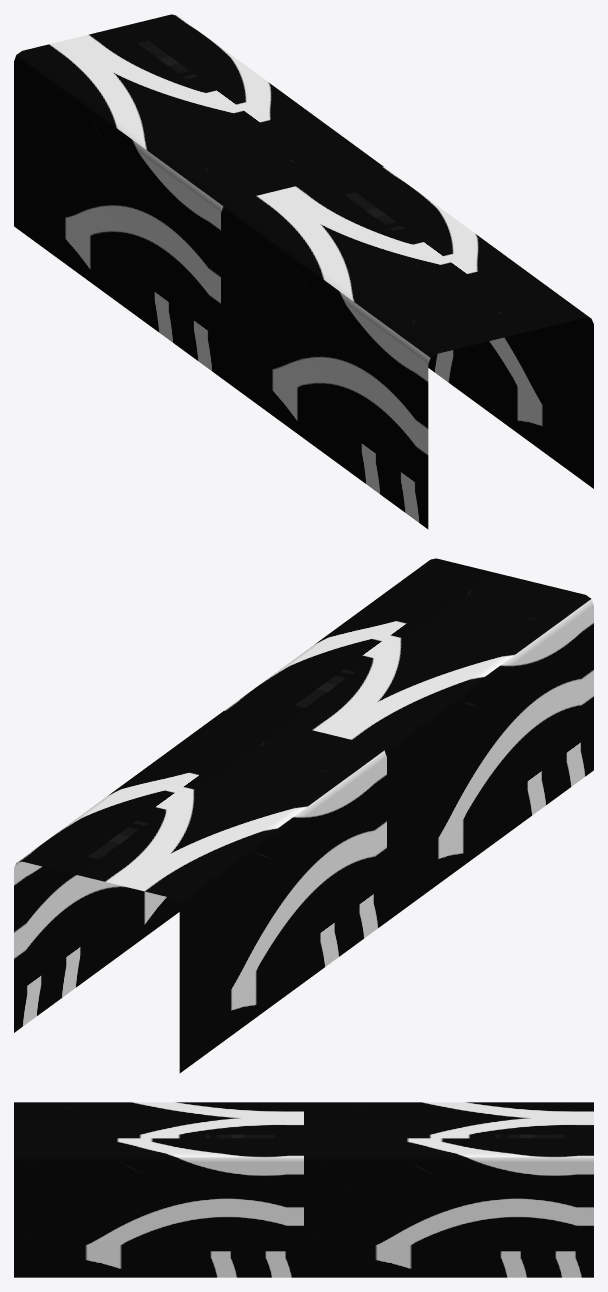
Rendered from RampPiece.fbx.
The picture shows the model from 3 angles, top to bottom: view 1: azimuth 30°, elevation 25°; view 2: azimuth 150°, elevation 25°; view 3: azimuth 270°, elevation 25°; orthographic projection. The views are drawn at different scales.
Parts seen in each view (by area): view 1: RampPiece; view 2: RampPiece; view 3: RampPiece.
Part boxes in pixels (x1,y1,x2,y2): RampPiece: (14,14,593,529); RampPiece: (14,558,593,1073); RampPiece: (14,1102,593,1277).
Size of the model in its own units: 173 by 173 by 749.
